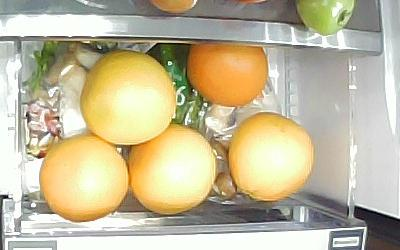grapefruit: (79, 48, 177, 145), (126, 122, 218, 214), (38, 132, 129, 222), (226, 110, 314, 201), (185, 42, 268, 107)
